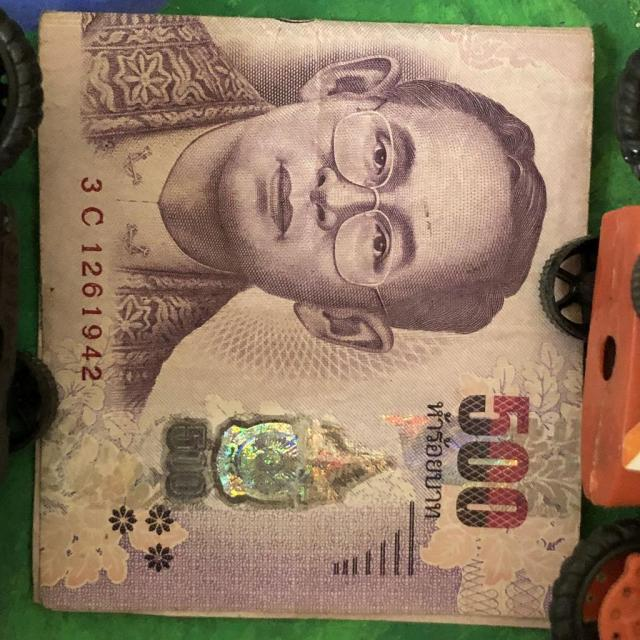THAI500: (33, 12, 594, 626)
